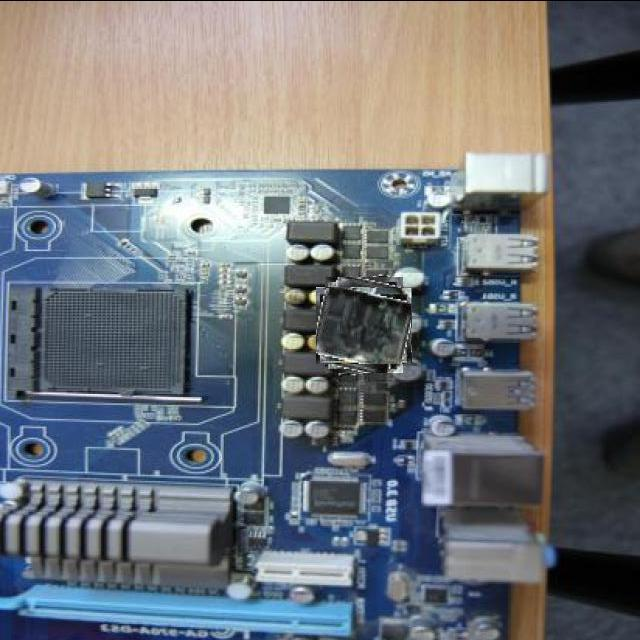damged: (321, 282, 408, 369)
